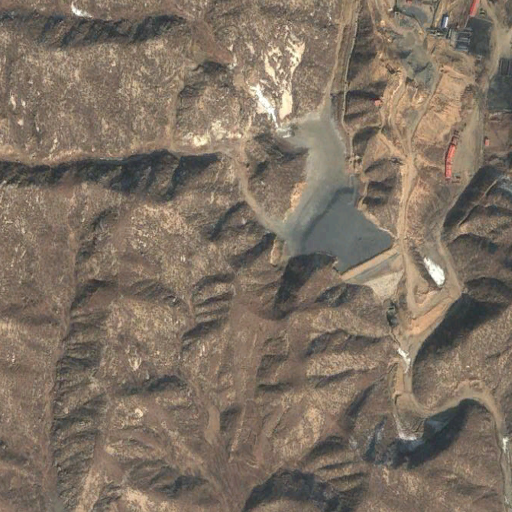tp: (235, 96, 403, 301)
